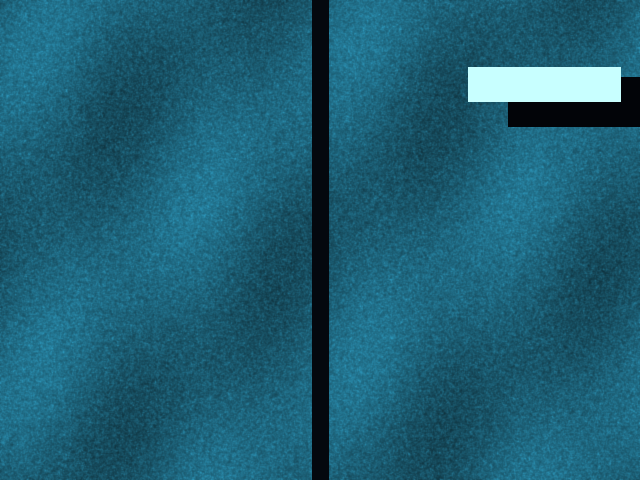Metal Object: (468, 67, 620, 101)
